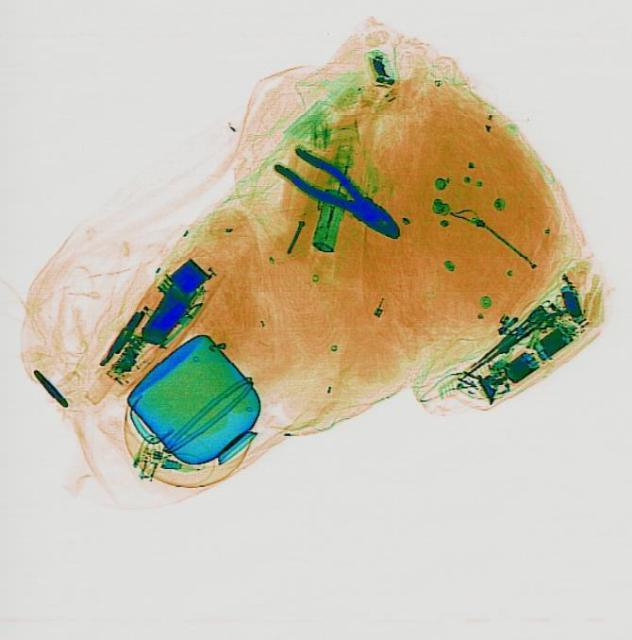Pliers: (268, 137, 410, 247)
